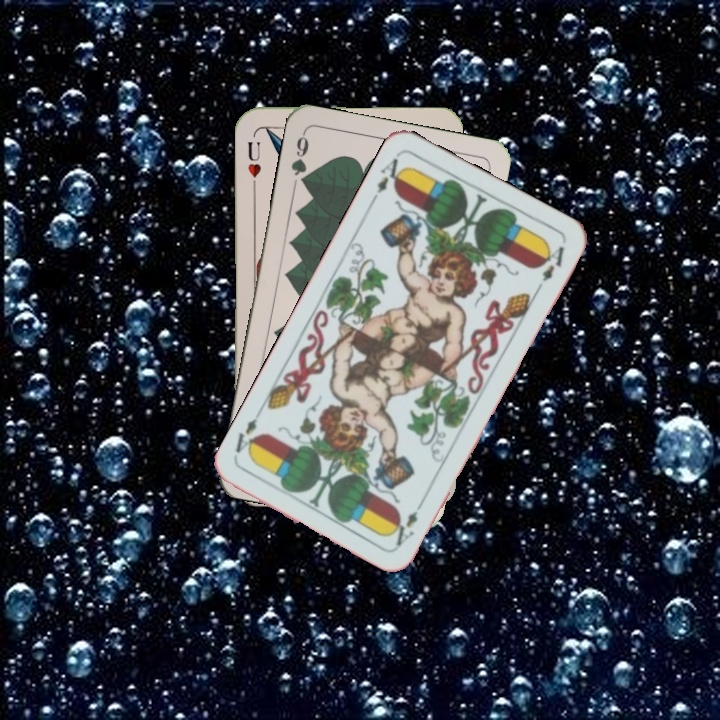EA: (367, 151, 409, 206), (392, 495, 428, 549)
G9: (287, 129, 311, 189)
HU: (243, 137, 263, 180)
